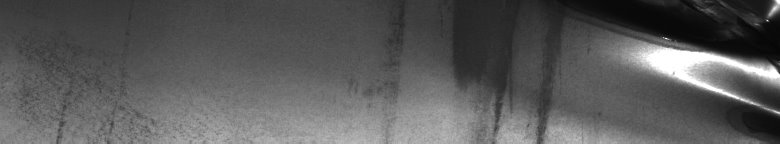ke: (631, 0, 732, 144)
